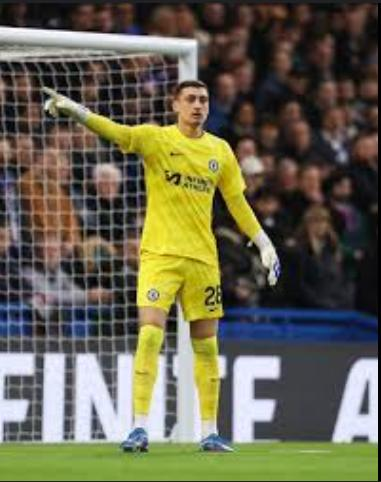goalkeeper: (24, 38, 294, 467)
